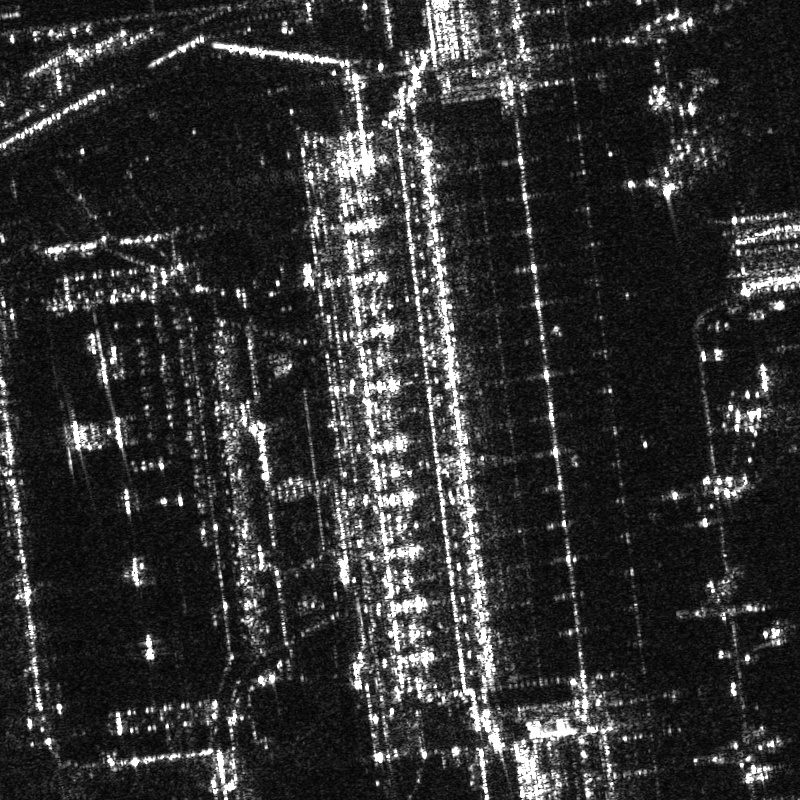Boeing787: (685, 560, 785, 648)
